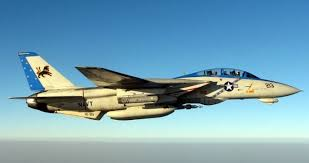fighter: (8, 49, 303, 123)
